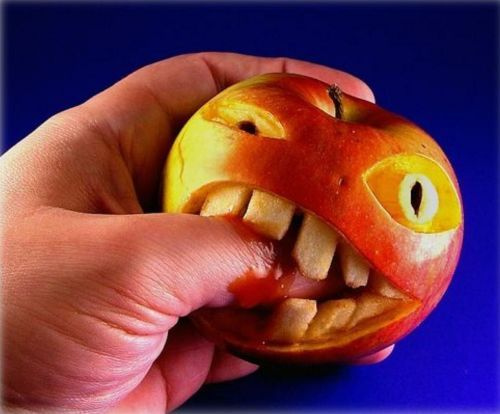apple: (162, 71, 465, 370)
